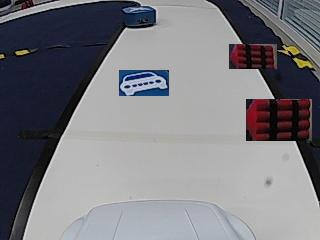prop: (123, 6, 156, 29)
